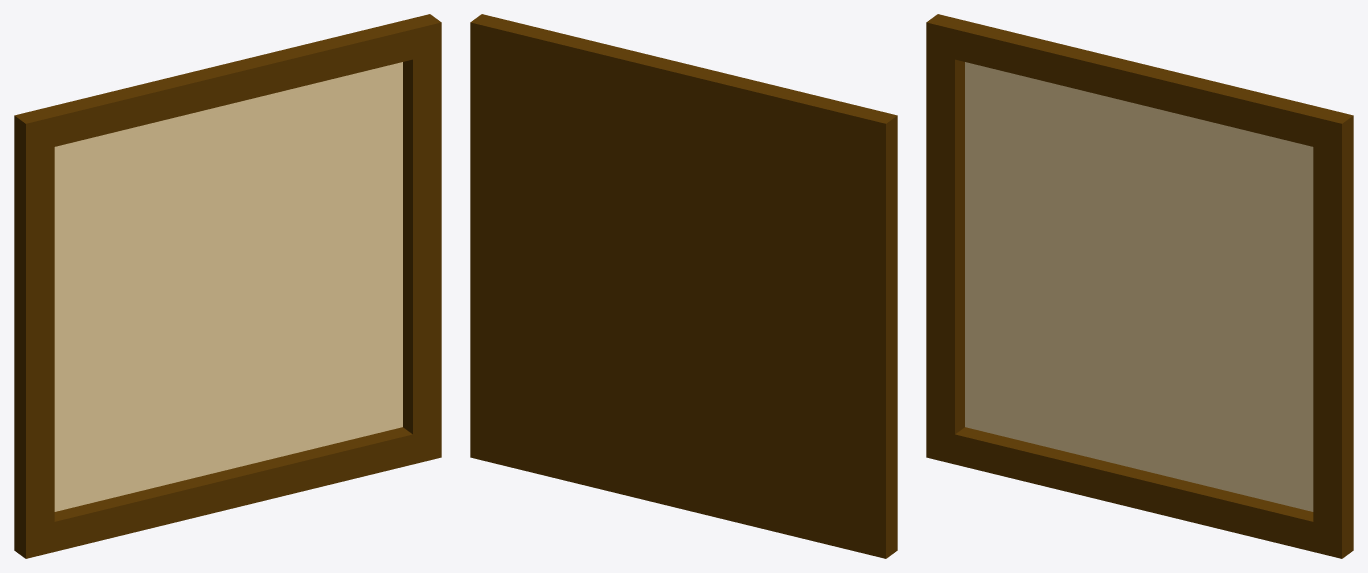
Rendered from R_Window.fbx.
3 views of the same model, side by side, from view 1: azimuth 30°, elevation 25°; view 2: azimuth 150°, elevation 25°; view 3: azimuth 330°, elevation 25° (orthographic).
Visible parts, largest first — view 1: R_Window; view 2: R_Window; view 3: R_Window.
Boxes of the visible parts, x1,y1,x2,y2 form: R_Window: (14,14,441,558); R_Window: (470,14,897,558); R_Window: (926,14,1353,558).
Bounding box in the file's own units: 864 × 41.5 × 864.
